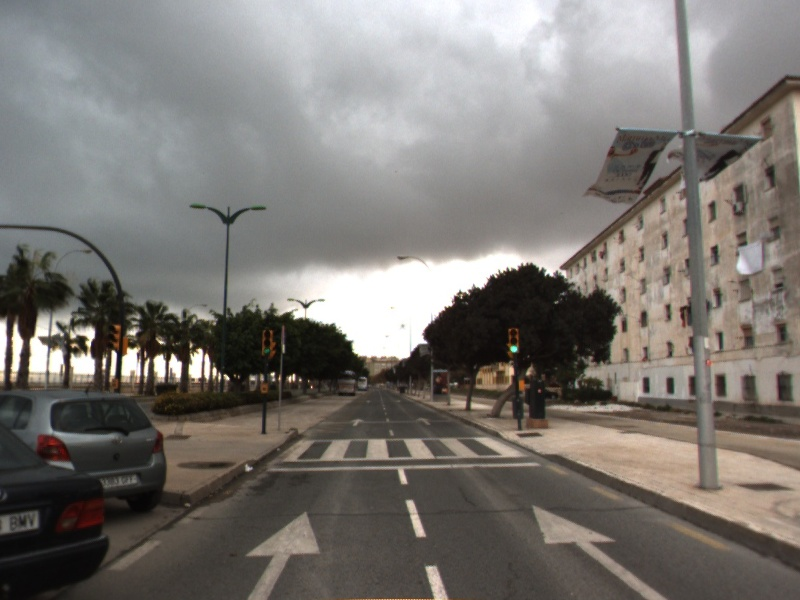STRAIGHT: (528, 501, 674, 600), (242, 508, 324, 600), (414, 415, 434, 427), (348, 416, 367, 428)
